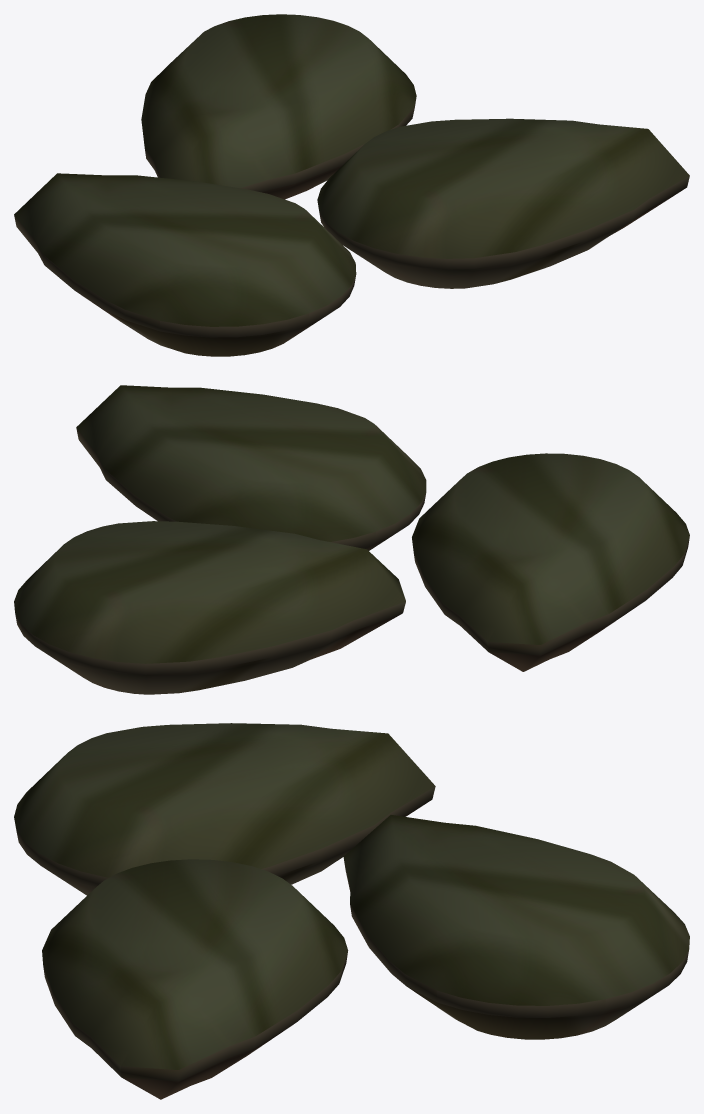
File: sementes02.glb
3 renders of one model, top to bottom at view 1: azimuth 30°, elevation 25°; view 2: azimuth 150°, elevation 25°; view 3: azimuth 270°, elevation 25°, orthographic. The views are drawn at different scales.
Parts seen in each view (by area): view 1: Circle.001, Circle.003, Circle.004; view 2: Circle.004, Circle.003, Circle.001; view 3: Circle.004, Circle.003, Circle.001.
Boxes of the visible parts, left/top/right/bottom form: Circle.001: left=317, top=118, right=689, bottom=288; Circle.003: left=14, top=173, right=356, bottom=356; Circle.004: left=141, top=14, right=416, bottom=199; Circle.004: left=14, top=521, right=405, bottom=694; Circle.003: left=412, top=453, right=689, bottom=671; Circle.001: left=76, top=385, right=426, bottom=550; Circle.004: left=343, top=815, right=689, bottom=1039; Circle.003: left=14, top=723, right=435, bottom=895; Circle.001: left=42, top=859, right=348, bottom=1099.
Size of the model in its own units: 0.1529 by 0.0241 by 0.1369.
1 material, 1 textured.
